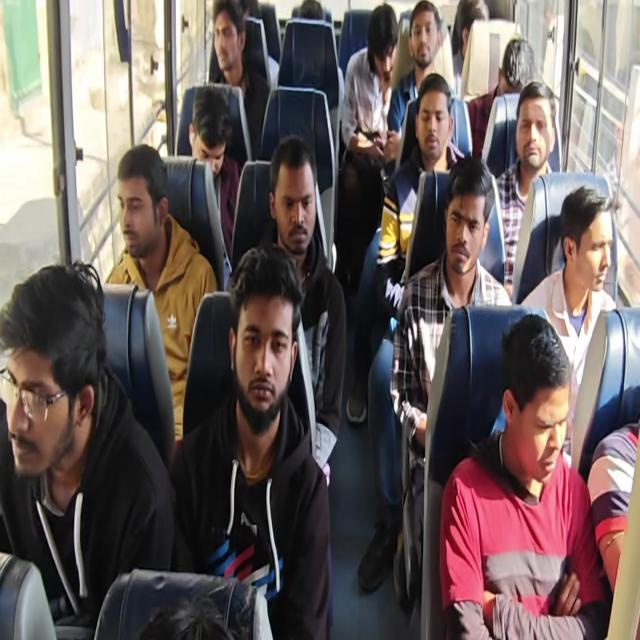person: (5, 288, 88, 476), (507, 321, 573, 482), (228, 268, 295, 425), (265, 158, 327, 270), (178, 76, 228, 188), (112, 159, 158, 248), (450, 182, 489, 270), (208, 6, 251, 85), (574, 203, 612, 289), (494, 36, 535, 108), (418, 85, 453, 168), (523, 88, 553, 184), (361, 11, 397, 79), (408, 17, 436, 68)
